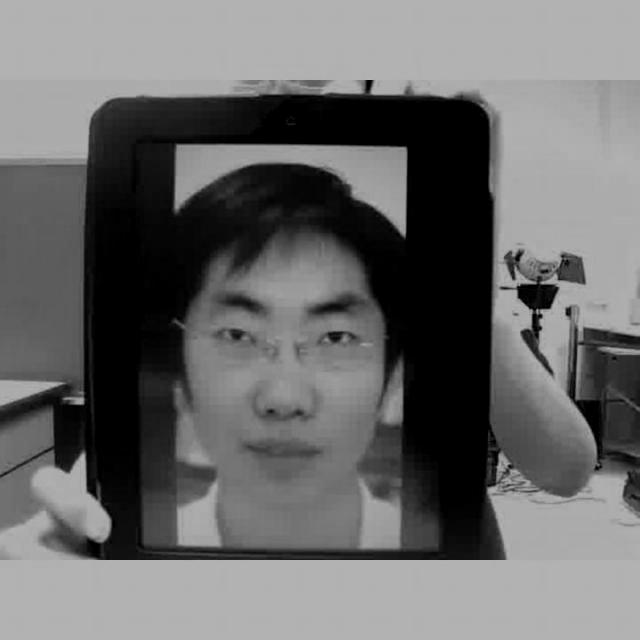fake: (79, 95, 499, 559)
